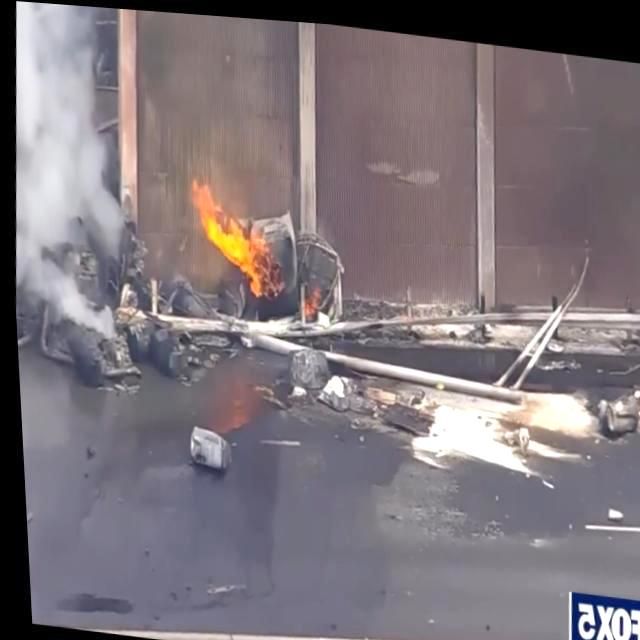fire: (182, 178, 274, 294)
